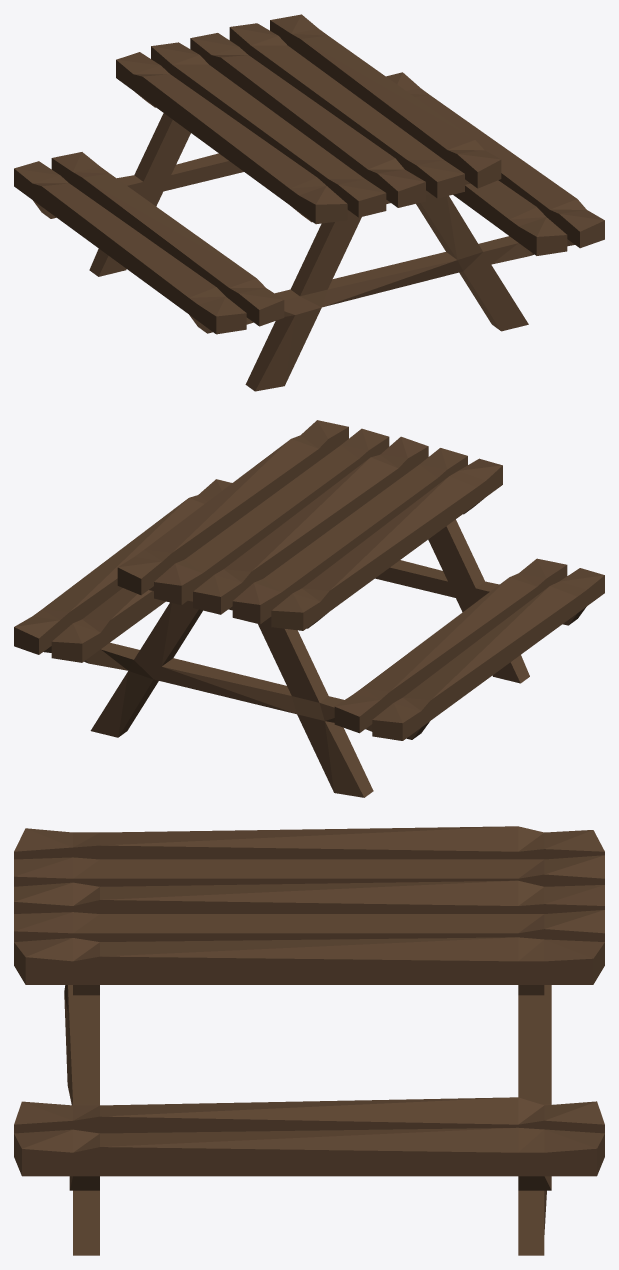
Rendered from SM_picnic_bench_AN.fbx.
3 views of the same model, one above another, from view 1: azimuth 30°, elevation 25°; view 2: azimuth 150°, elevation 25°; view 3: azimuth 270°, elevation 25° (orthographic). The views are drawn at different scales.
Parts seen in each view (by area): view 1: SM_picnic_bench_AN; view 2: SM_picnic_bench_AN; view 3: SM_picnic_bench_AN.
Boxes of the visible parts, x1,y1,x2,y2 form: SM_picnic_bench_AN: (14,14,604,391); SM_picnic_bench_AN: (14,420,604,797); SM_picnic_bench_AN: (14,826,604,1255).
Bounding box in the file's own units: 53.66 × 25.01 × 49.67.
